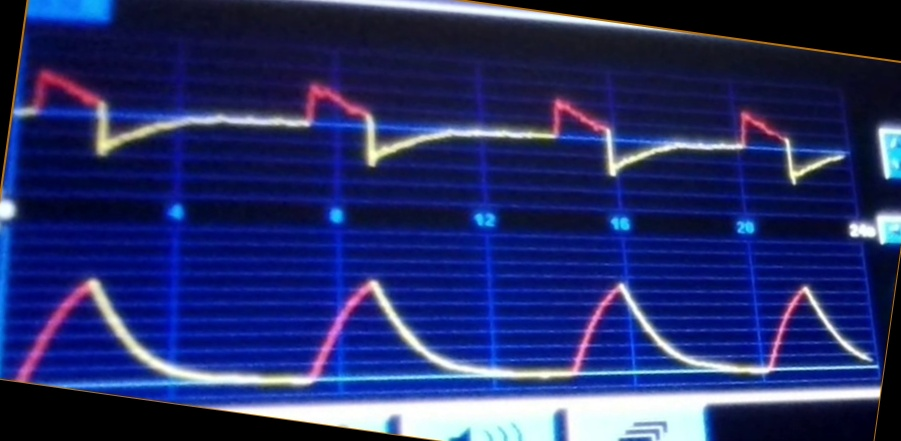Accumulation Flow: (24, 64, 849, 190)
Volume: (14, 271, 874, 392)
